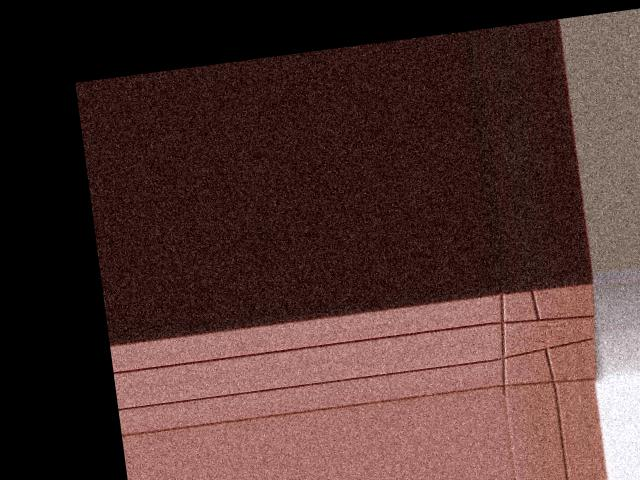chocolate: (483, 276, 608, 396)
